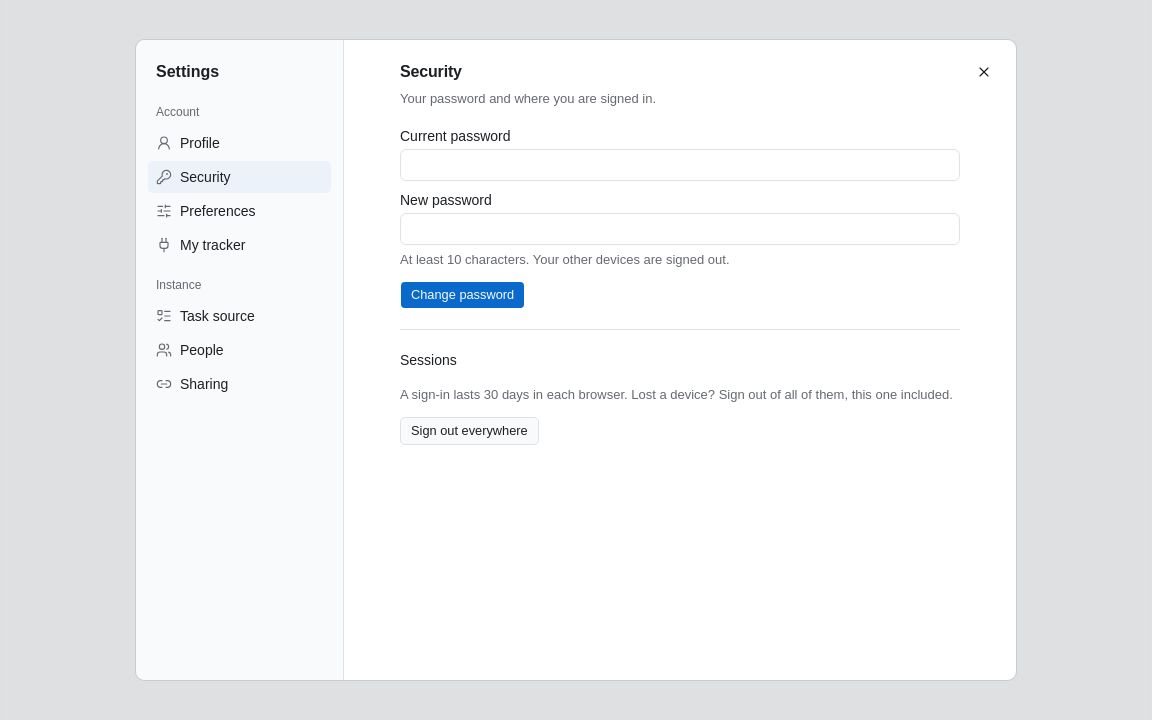
names a wrong current password
Type "old-password" into the password field labelled "Current password". click: point(680, 165)
box: x1=400 y1=149 x2=960 y2=181
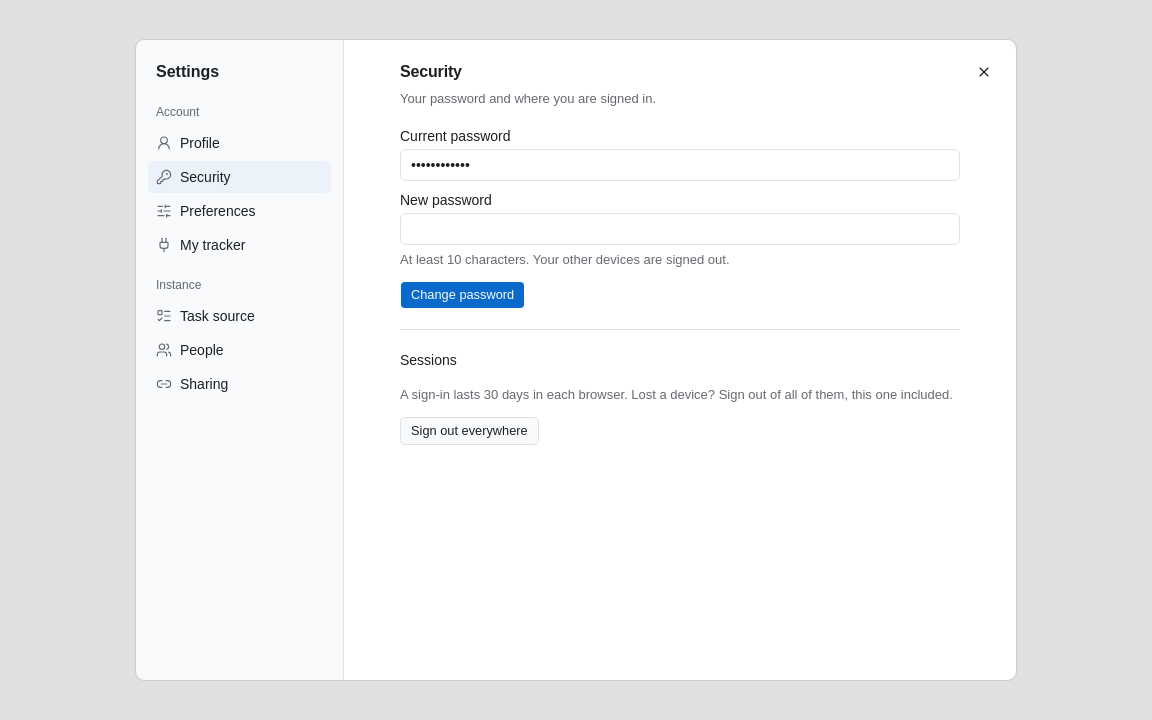
Type "new-password-1" into the password field labelled "New password". click: point(680, 229)
box: x1=400 y1=213 x2=960 y2=245
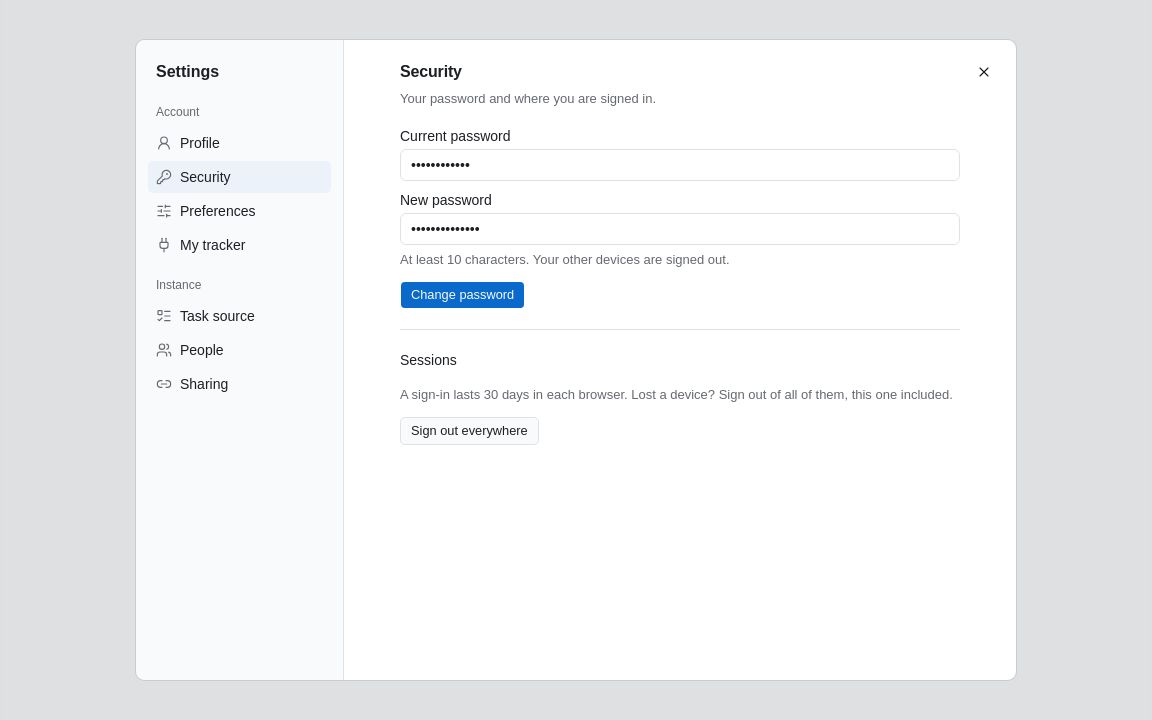
Click the button "Change password". click: point(463, 295)
box: x1=400 y1=281 x2=525 y2=309
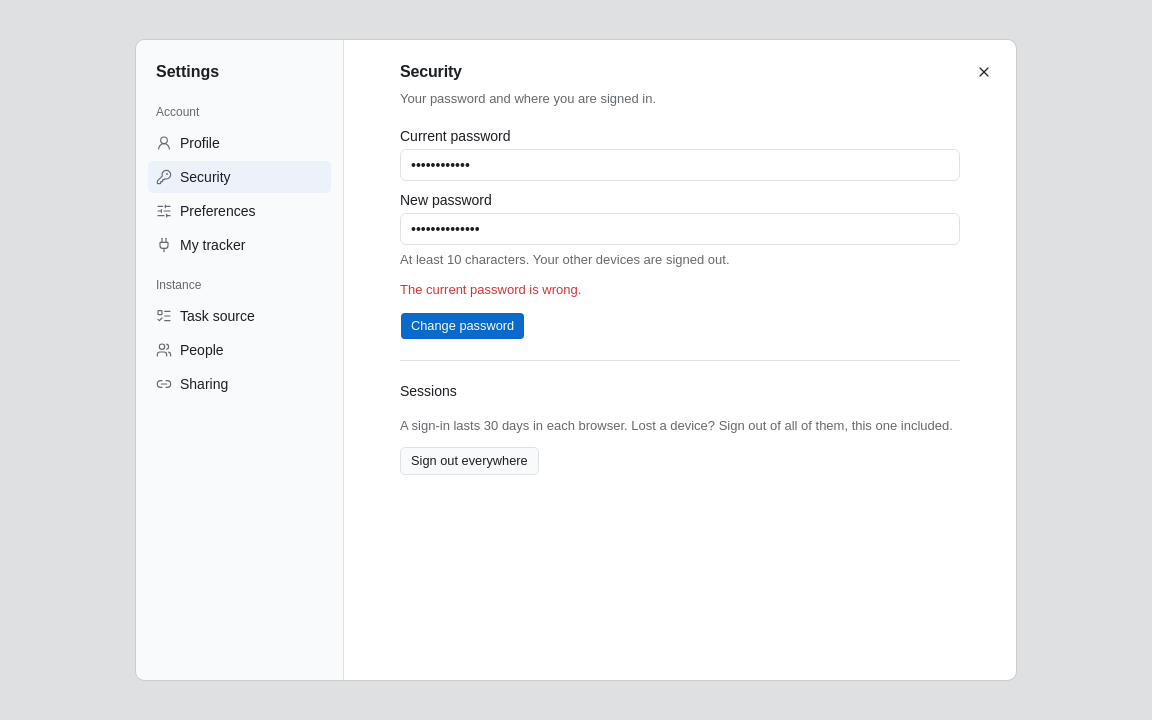
Now the text "The current password is wrong." is shown, box x1=400 y1=282 x2=581 y2=297
